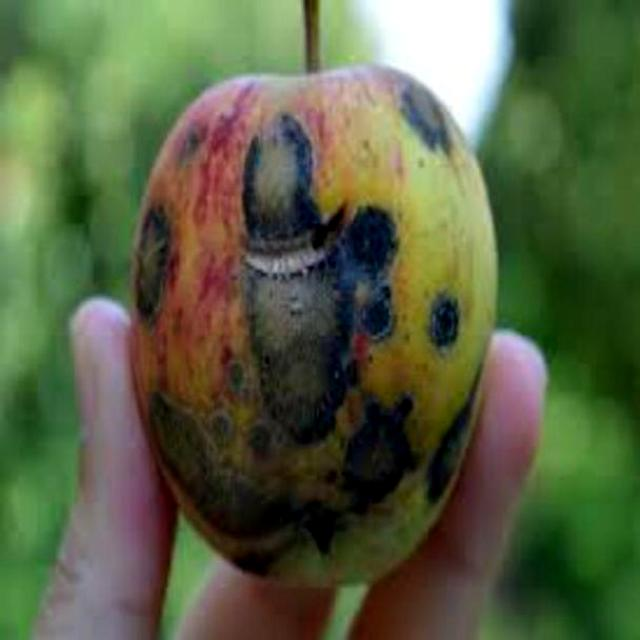SCAB: (136, 31, 502, 614)
